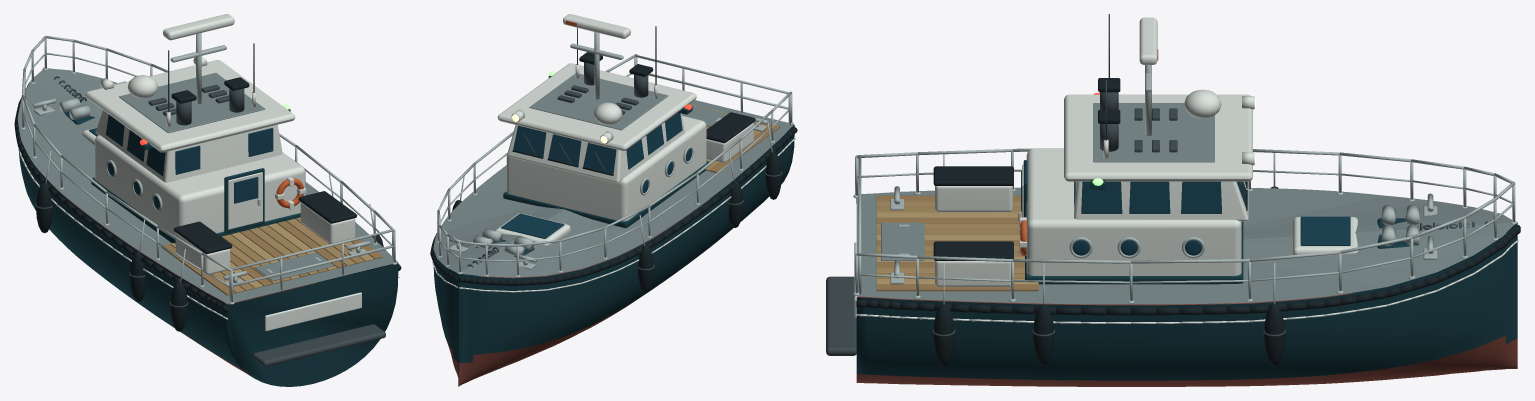
Rendered from ship-v3.glb.
3 views of the same model, side by side, from view 1: azimuth 30°, elevation 25°; view 2: azimuth 150°, elevation 25°; view 3: azimuth 270°, elevation 25° (orthographic). The views are drawn at different scales.
Visible parts, largest first — view 1: Warm ivory enamel, Deep petrol enamel, Non slip gray deck, Brushed stainless steel, Rubber fenders, Dark machinery, Blue smoke glazing, Teak plank 0, Teak plank 1, Teak plank 2, Teak plank 3, Antifouling oxide (+1 smaller); view 2: Warm ivory enamel, Deep petrol enamel, Non slip gray deck, Brushed stainless steel, Rubber fenders, Blue smoke glazing, Antifouling oxide, Dark machinery, Teak plank 0; view 3: Deep petrol enamel, Warm ivory enamel, Non slip gray deck, Brushed stainless steel, Rubber fenders, Antifouling oxide, Blue smoke glazing, Dark machinery, Teak plank 0, Teak plank 3, Teak plank 1, Teak plank 2.
Part boxes in pixels (x1,y1,x2,y2): Warm ivory enamel: [18, 14, 399, 331]; Deep petrol enamel: [17, 109, 398, 386]; Non slip gray deck: [17, 67, 397, 303]; Brushed stainless steel: [20, 33, 397, 304]; Rubber fenders: [14, 77, 401, 331]; Dark machinery: [35, 43, 385, 366]; Blue smoke glazing: [89, 114, 273, 209]; Teak plank 0: [161, 221, 382, 295]; Teak plank 1: [170, 218, 355, 293]; Teak plank 2: [220, 217, 364, 290]; Teak plank 3: [230, 223, 373, 288]; Antifouling oxide: [35, 166, 316, 375]; Warm ivory enamel: [432, 14, 795, 292]; Deep petrol enamel: [433, 76, 794, 386]; Non slip gray deck: [433, 73, 794, 277]; Brushed stainless steel: [436, 32, 793, 277]; Rubber fenders: [430, 52, 797, 293]; Blue smoke glazing: [501, 112, 691, 238]; Antifouling oxide: [446, 199, 709, 386]; Dark machinery: [467, 26, 782, 270]; Teak plank 0: [702, 107, 780, 172]; Deep petrol enamel: [856, 160, 1517, 380]; Warm ivory enamel: [854, 17, 1518, 323]; Non slip gray deck: [856, 103, 1517, 304]; Brushed stainless steel: [853, 65, 1516, 304]; Rubber fenders: [856, 78, 1520, 366]; Antifouling oxide: [856, 293, 1517, 386]; Blue smoke glazing: [1021, 171, 1350, 255]; Dark machinery: [826, 14, 1487, 355]; Teak plank 0: [876, 195, 1038, 291]; Teak plank 3: [876, 212, 1038, 284]; Teak plank 1: [876, 201, 1024, 273]; Teak plank 2: [876, 207, 1024, 278].
Bounding box in the file's own units: 4.85 × 5.93 × 11.14.
